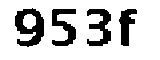3: (83, 6, 113, 52)
5: (49, 6, 82, 51)
9: (12, 6, 49, 51)
f: (115, 5, 139, 52)
